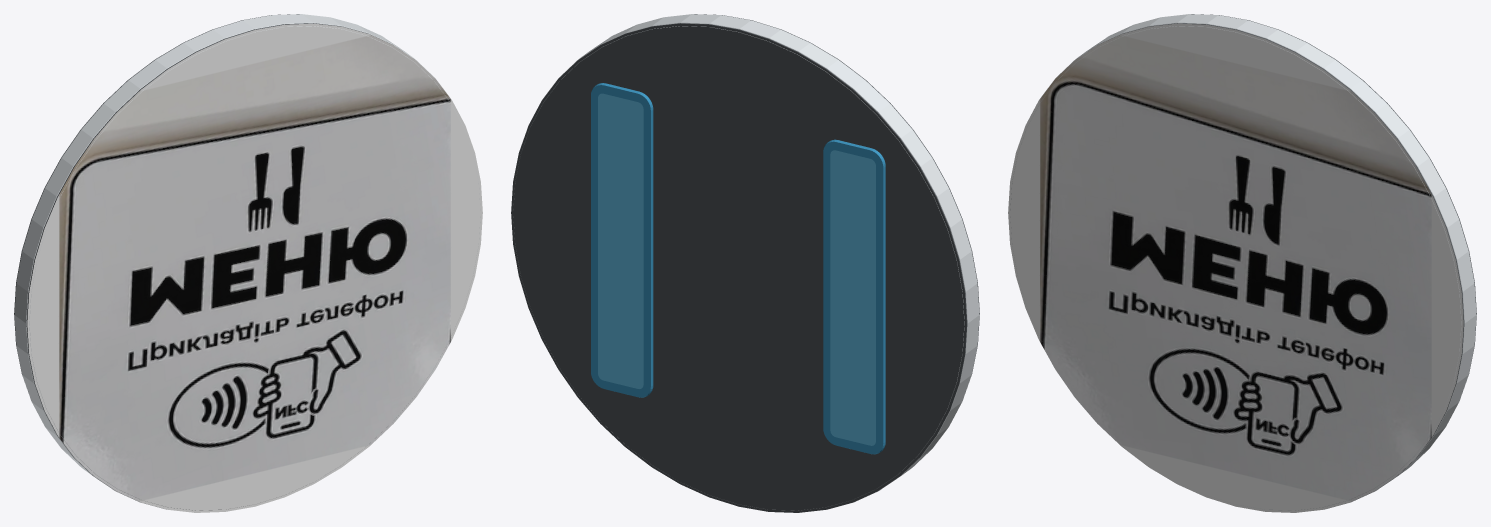
Rendered from menu-round-white.glb.
3 renders of one model, left to right at view 1: azimuth 30°, elevation 25°; view 2: azimuth 150°, elevation 25°; view 3: azimuth 330°, elevation 25°, orthographic.
Parts seen in each view (by area): view 1: Round menu card, Soft bevel and perimeter glint; view 2: Round menu card, Continuous ribbon top sheen, Unbroken raised rear ribbons, Soft bevel and perimeter glint; view 3: Round menu card, Soft bevel and perimeter glint.
Boxes of the visible parts, x1,y1,x2,y2 form: Round menu card: [14, 14, 482, 512]; Soft bevel and perimeter glint: [14, 14, 480, 510]; Round menu card: [511, 14, 979, 512]; Continuous ribbon top sheen: [598, 93, 875, 445]; Unbroken raised rear ribbons: [591, 83, 885, 454]; Soft bevel and perimeter glint: [513, 14, 979, 510]; Round menu card: [1008, 14, 1476, 512]; Soft bevel and perimeter glint: [1010, 14, 1476, 510].
Bounding box in the file's own units: 0.0701 × 0.0701 × 0.00403.
5 materials, 1 textured.
